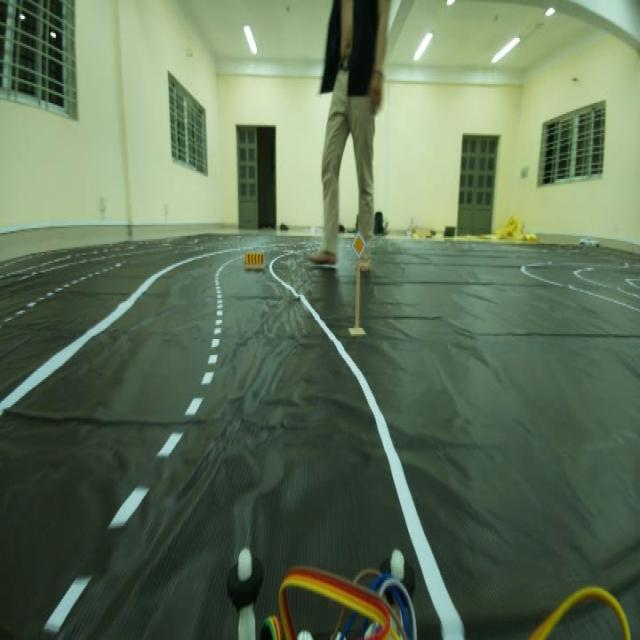priority: (352, 234, 366, 264)
